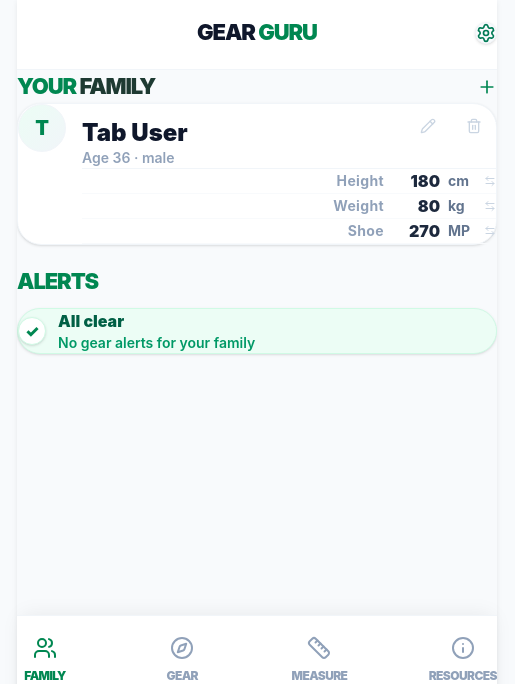
Test: App tab navigation › shows Measure screen when MEASURE tab clicked
Click the button "MEASURE": point(320, 660) [292,636,348,683]
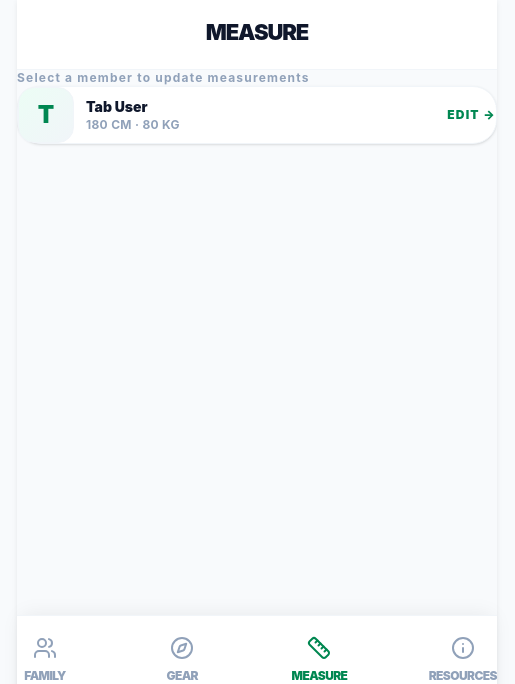
Result: the heading "Measure" is shown at [206,16,308,49]
